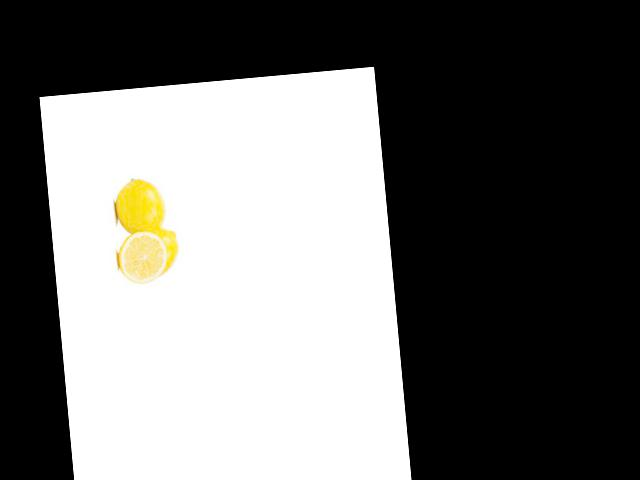lemon: (95, 171, 171, 247)
